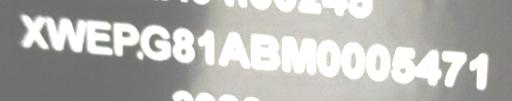letter: (279, 33, 319, 78), (44, 13, 86, 54), (216, 29, 252, 70), (140, 23, 174, 62), (248, 32, 282, 71), (18, 11, 50, 50), (83, 16, 113, 55), (111, 19, 141, 58), (364, 39, 390, 84), (388, 43, 416, 84), (414, 47, 442, 88), (168, 25, 198, 62), (440, 48, 468, 87), (340, 39, 366, 80), (466, 50, 492, 91), (315, 39, 341, 78), (196, 28, 218, 67)
